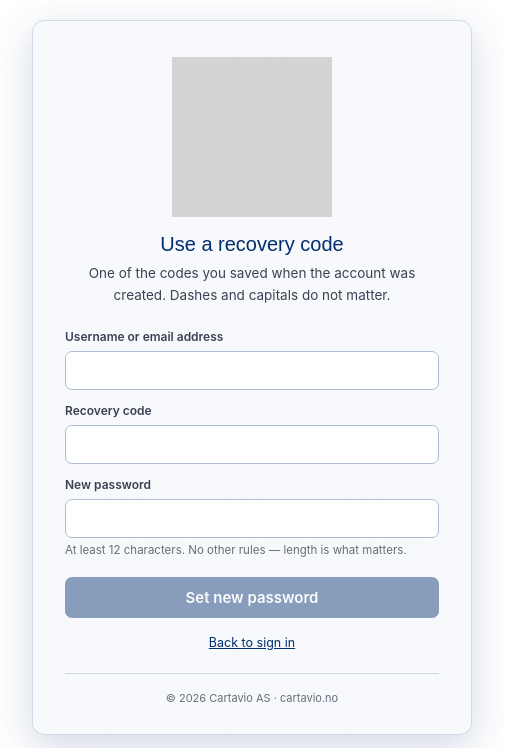
<RecoverScreen> › shows the replacement set, which is the only time it is readable
Type "kari" into the field labelled "Username or email address". click: (252, 371)
box: [65,351,439,390]
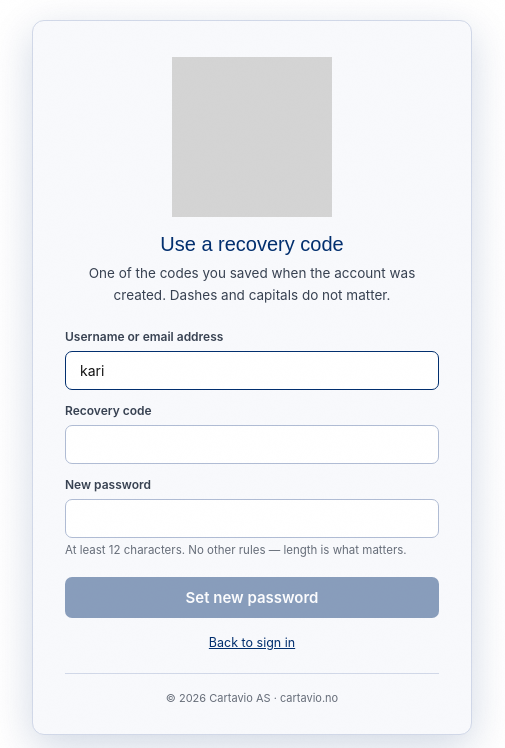
Type "aaaaa bbbbb" into the field labelled "Recovery code". click: (252, 445)
box: [65,425,439,464]
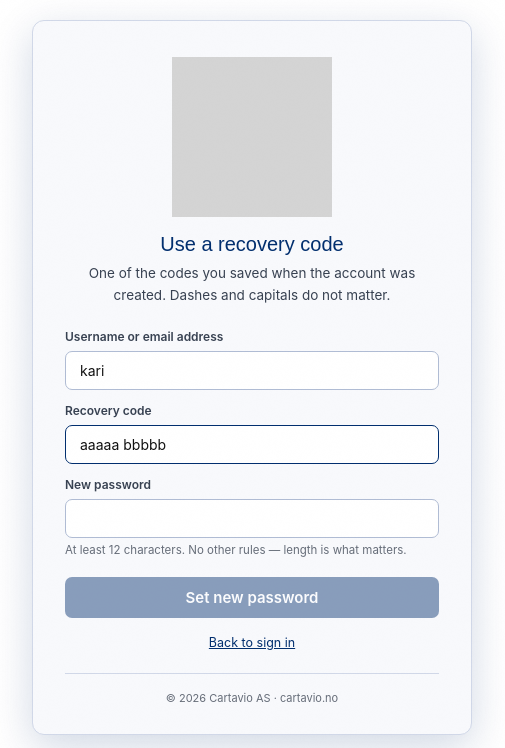
Type "correct-horse-battery" into the password field labelled "New password". click: (252, 519)
box: [65,499,439,538]
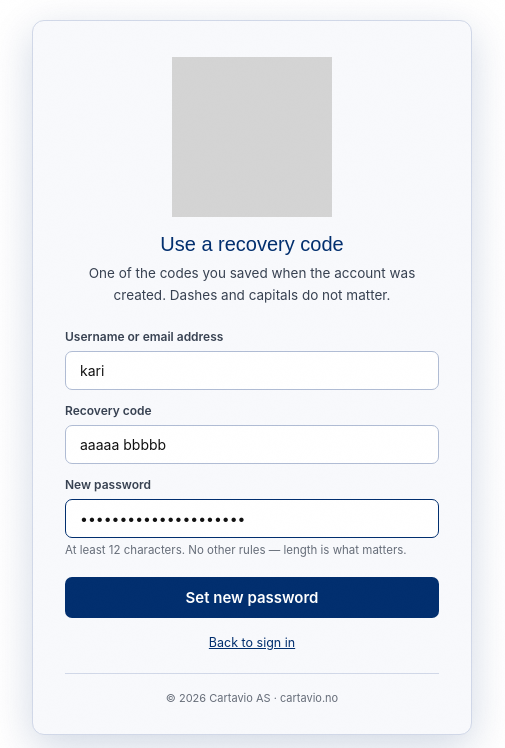
Click the button "Set new password". click: (252, 597)
box: [65,577,439,618]
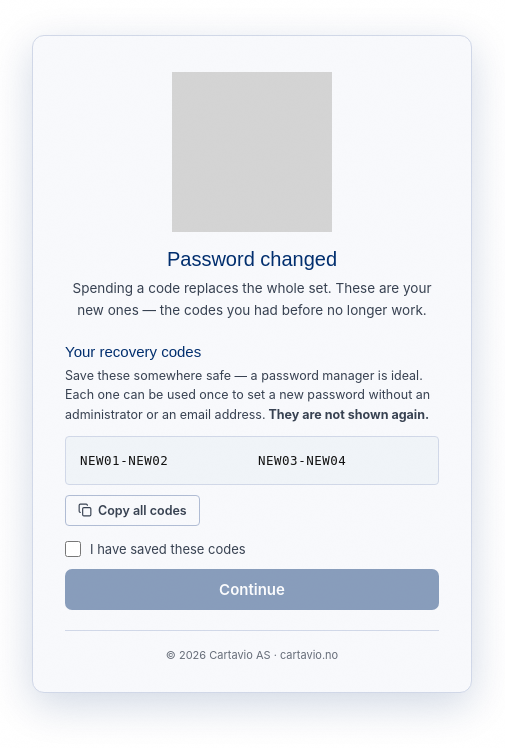
Now the text "NEW01-NEW02" is shown, box [80,453,168,468]
Now the text "NEW03-NEW04" is shown, box [258,453,346,468]
Now the text "the codes you had before no longer work" is shown, box [72,280,432,318]
